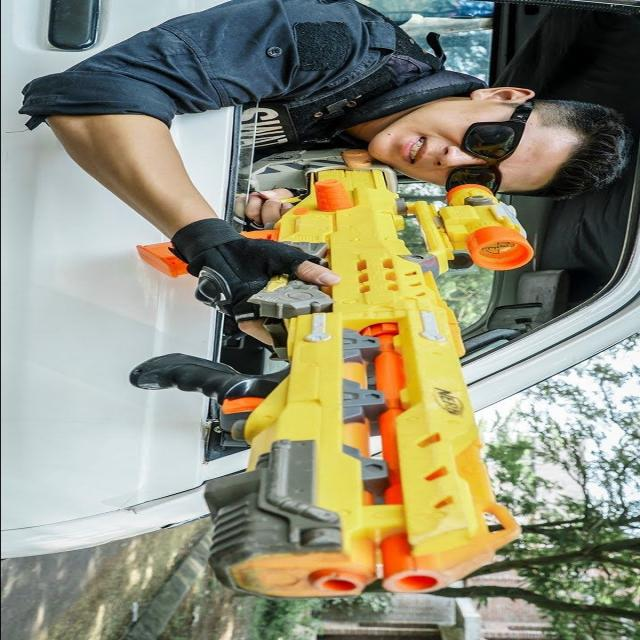Nerf gun: (121, 150, 540, 615)
